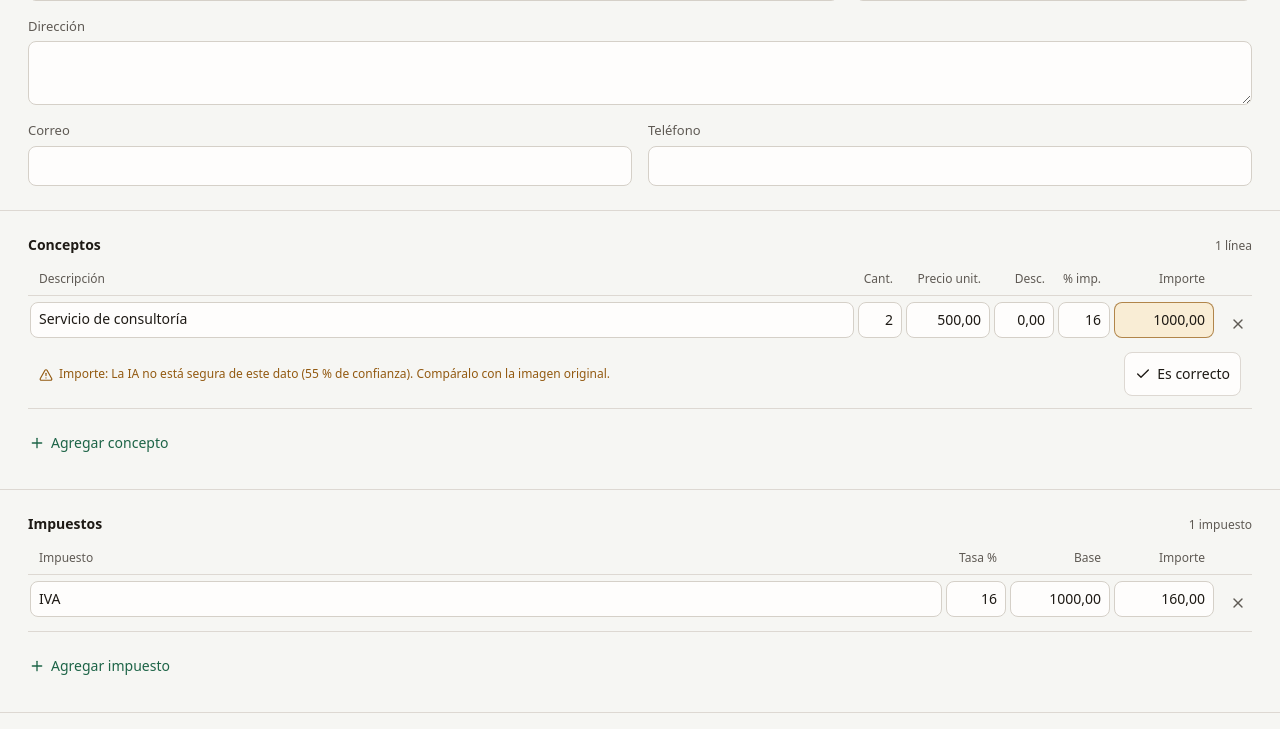
it: ReviewPage › line items, taxes and totals › adds and removes line items and taxes
Later steps or results of the test are not shown.
(page scrolled)
Click the button "Agregar concepto" at (99, 443), box [20, 421, 177, 465]
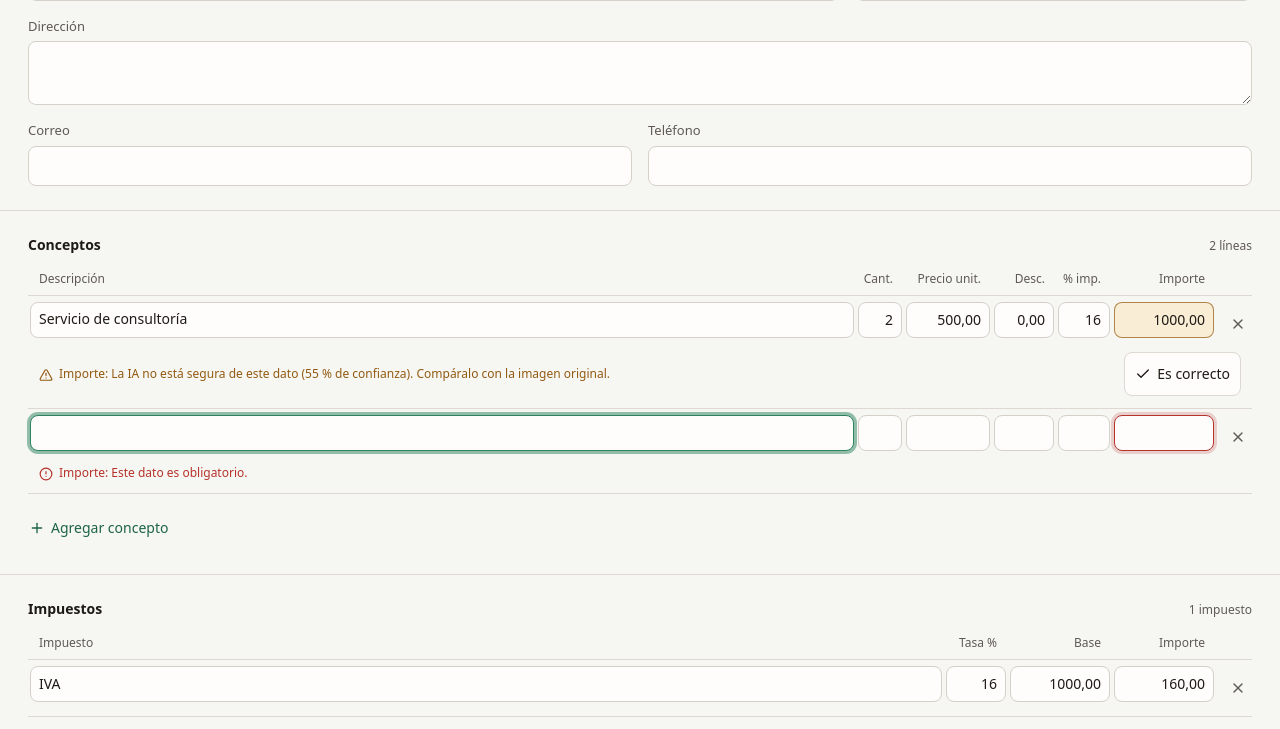
Type keys "Envío"
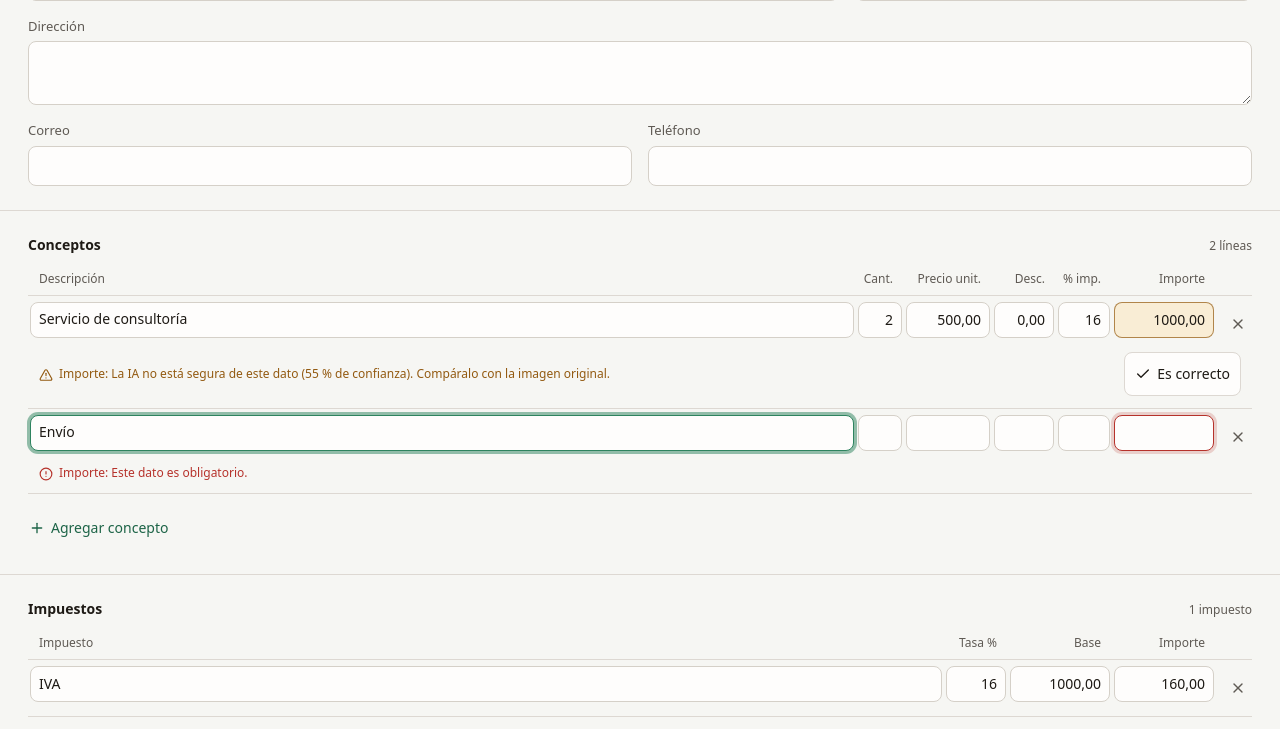
Expected: the text "2 líneas" is shown, [1209, 238, 1252, 254]
Click the button named "Eliminar el concepto 1" at (1238, 324), box [1216, 302, 1260, 346]
(page scrolled)
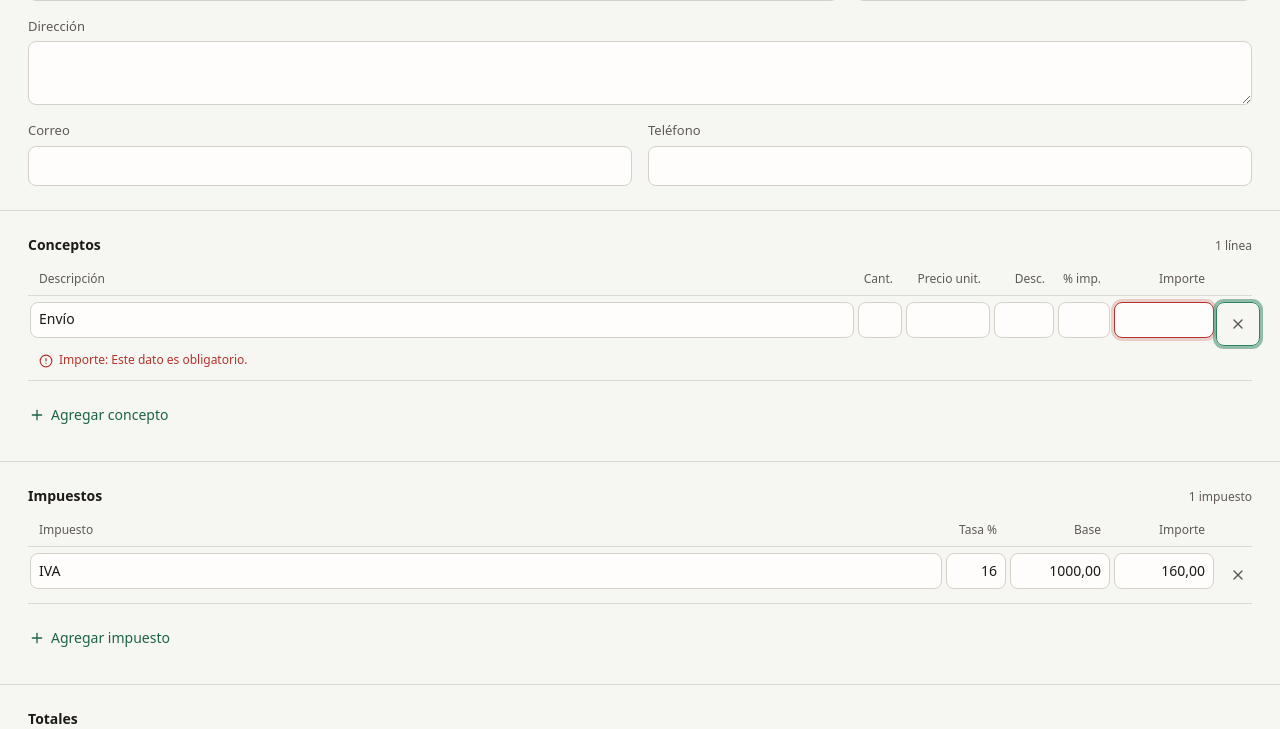
Expected: the text box named "Descripción (concepto 1)" holds "Envío", [30, 302, 854, 338]
Click the button named "Eliminar el impuesto 1" at (1238, 575), box [1216, 553, 1260, 597]
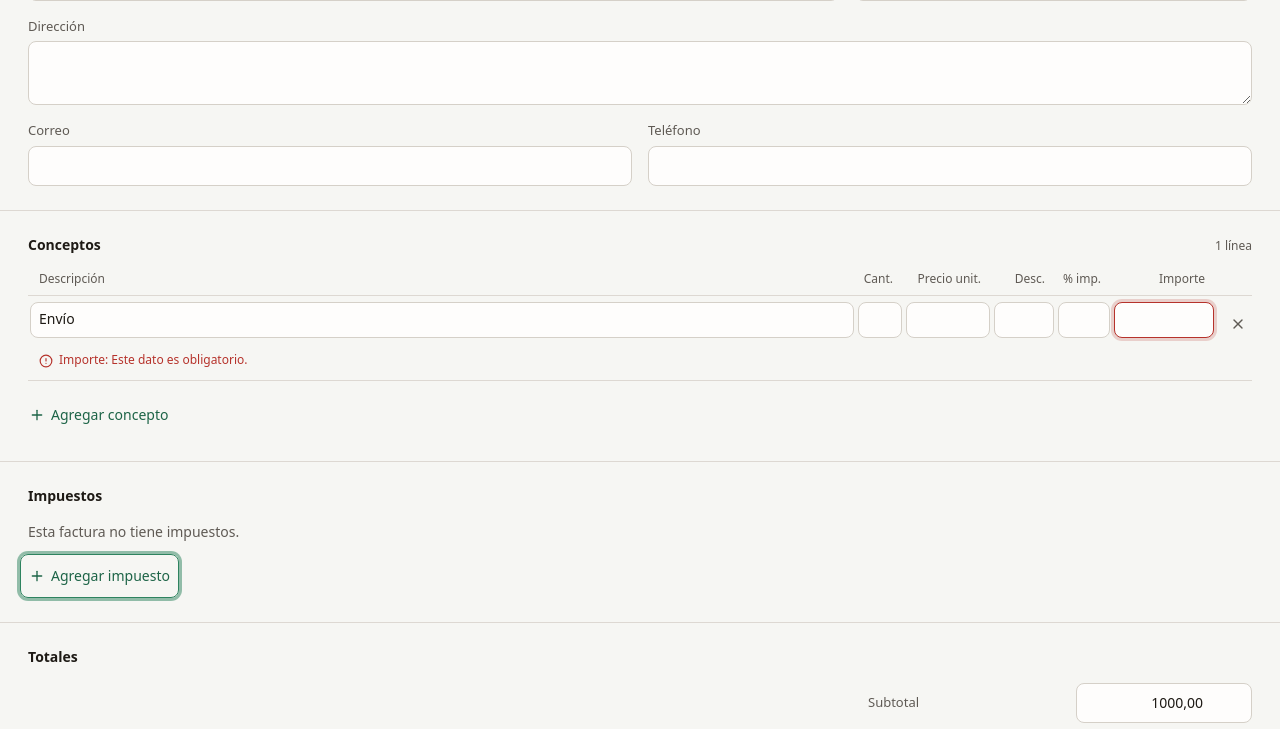
Expected: the text "Esta factura no tiene impuestos." is shown, [28, 522, 239, 541]
